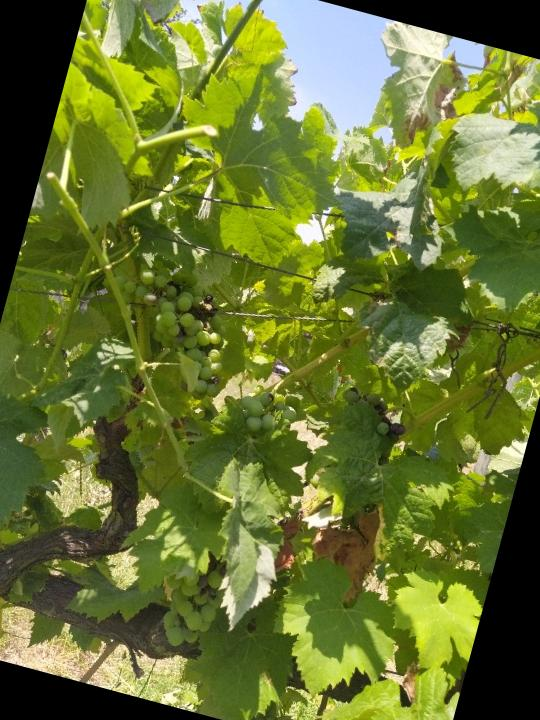grape: (101, 253, 248, 400)
